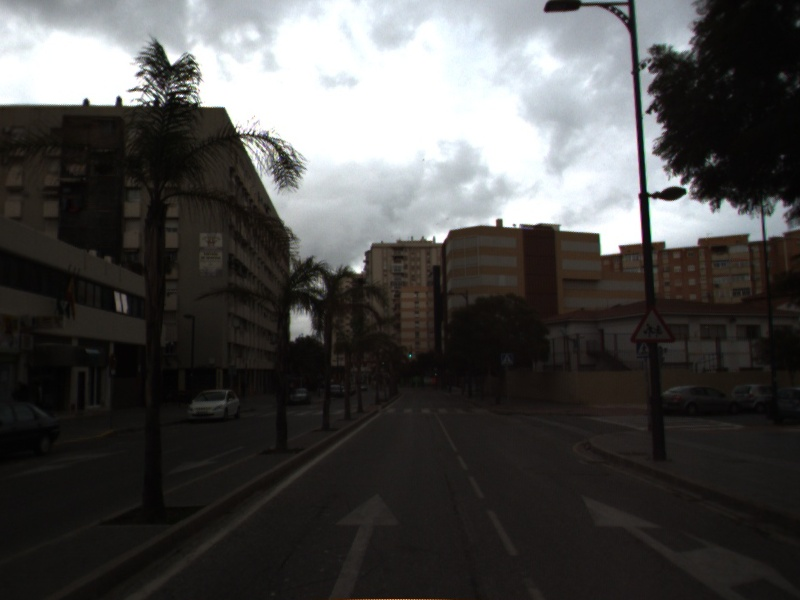STRAIGHT: (326, 491, 403, 600)
STRAIGHT_RIGHT: (579, 492, 800, 600)
